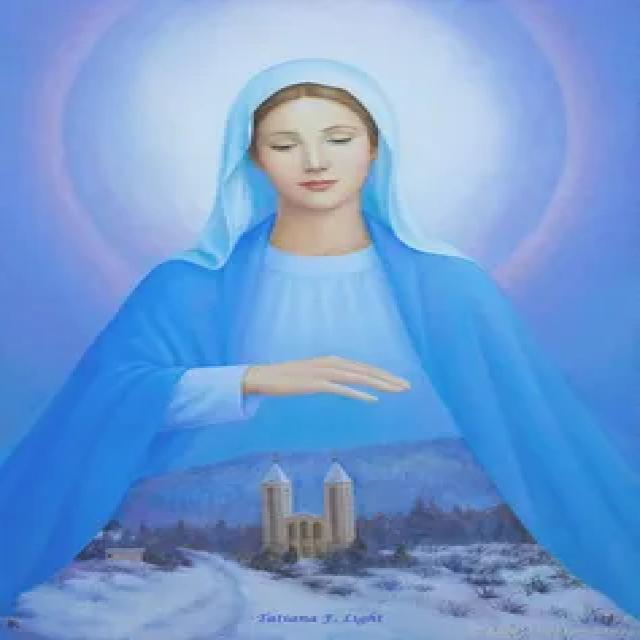mother of god: (27, 54, 637, 640)
